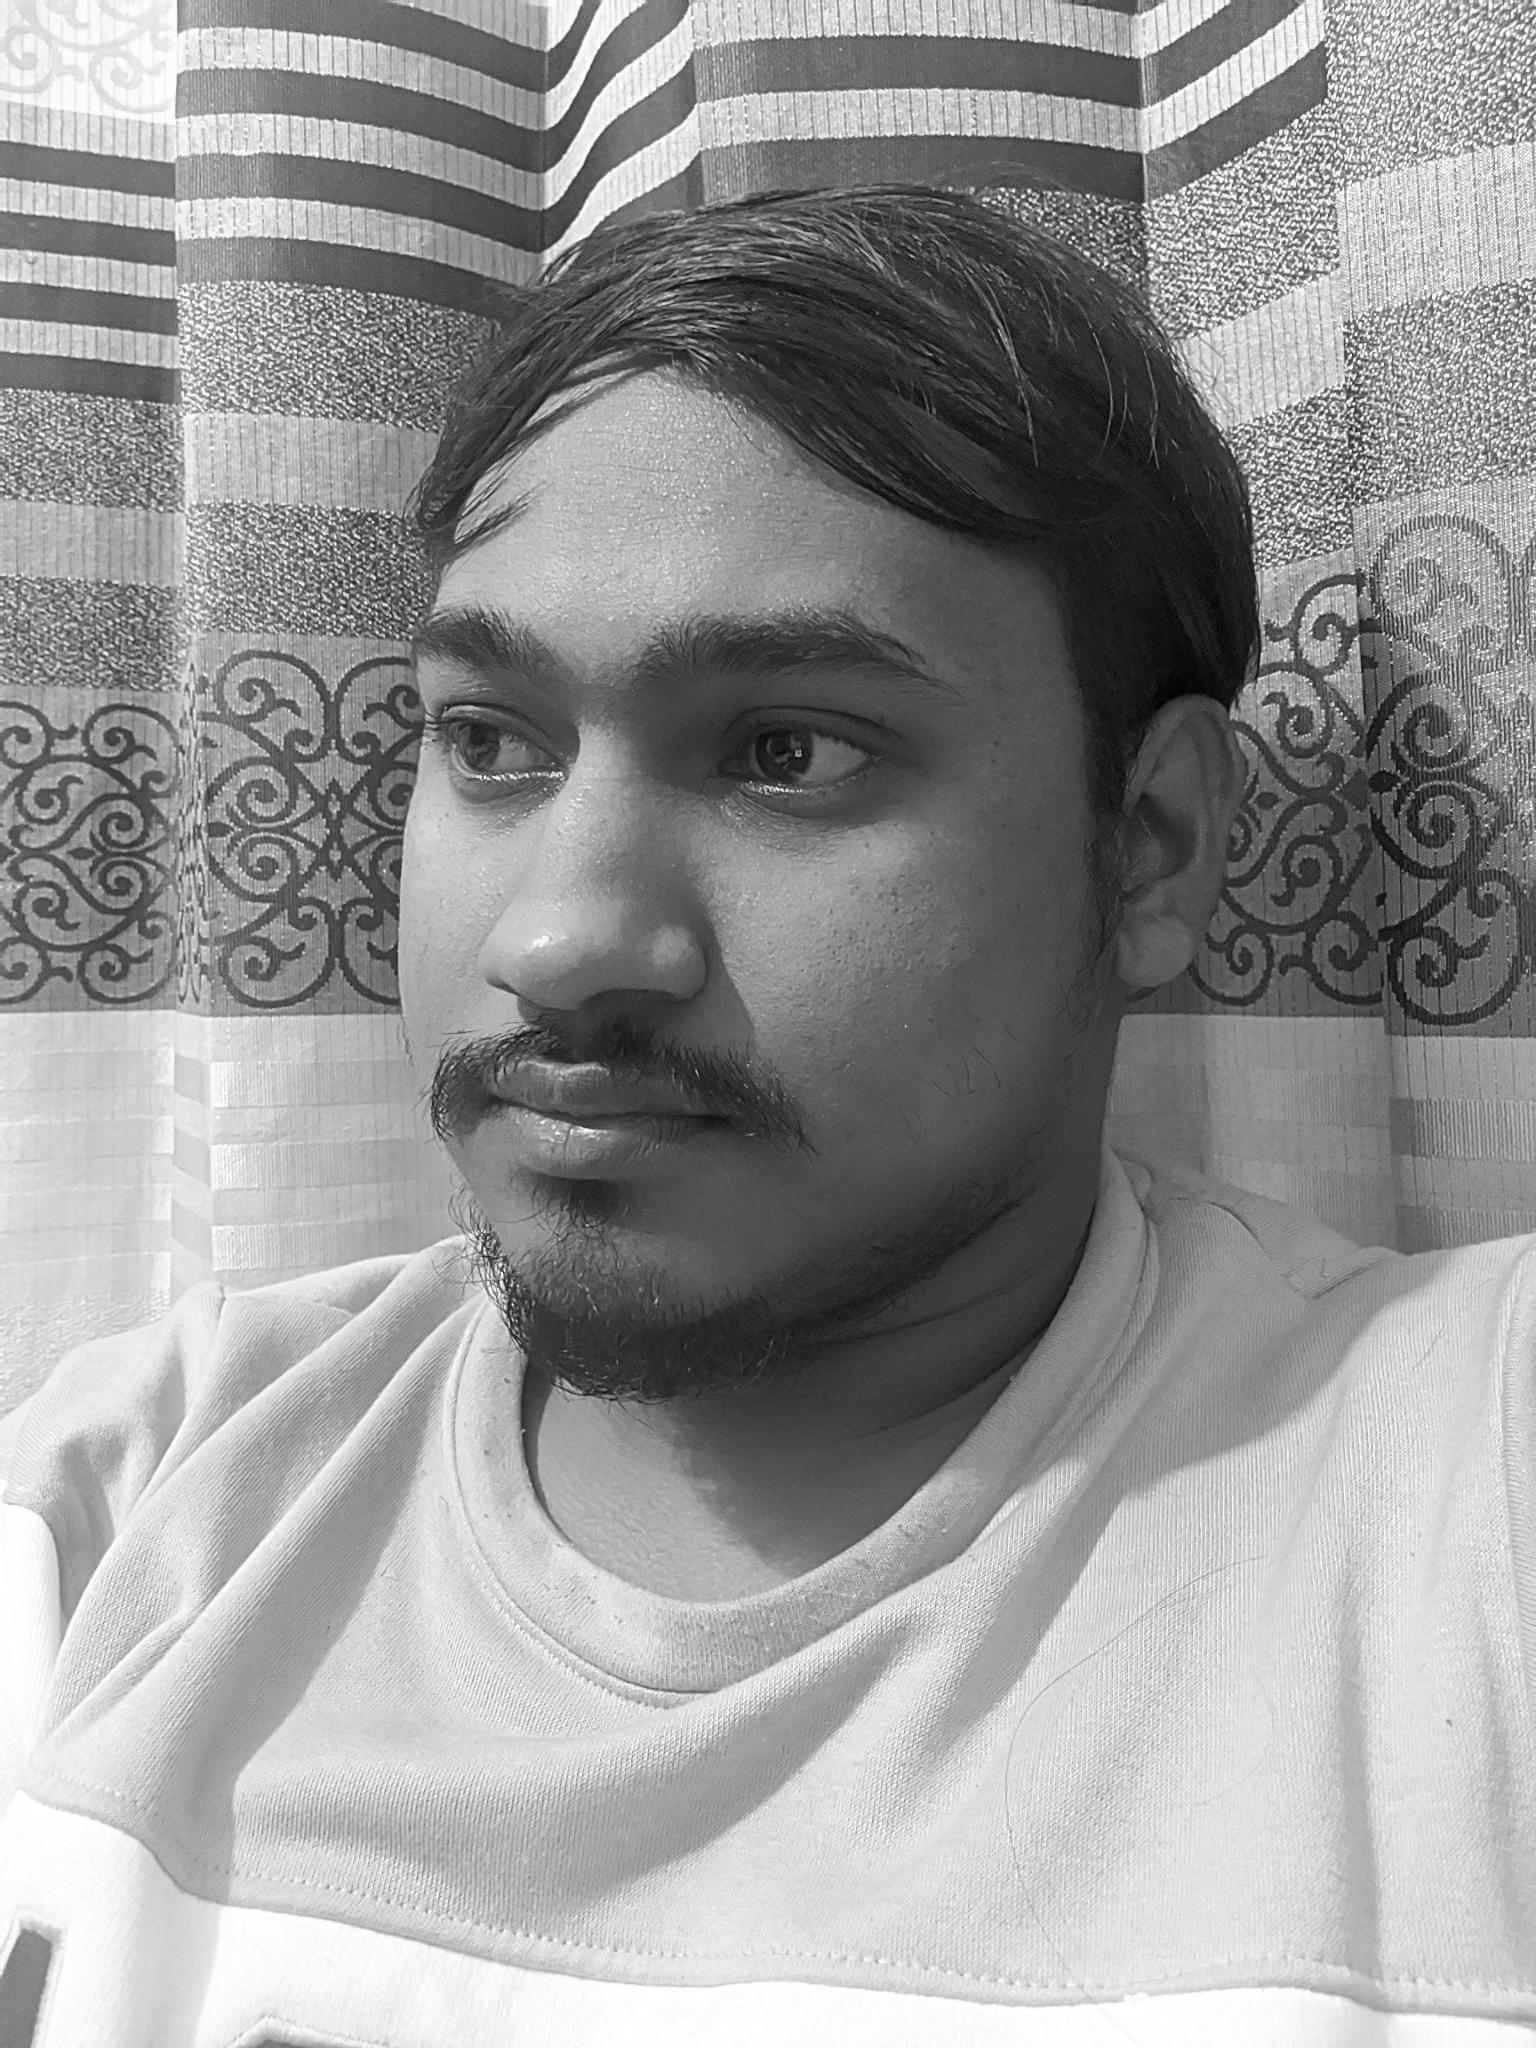Neutral: (371, 531, 992, 1376)
